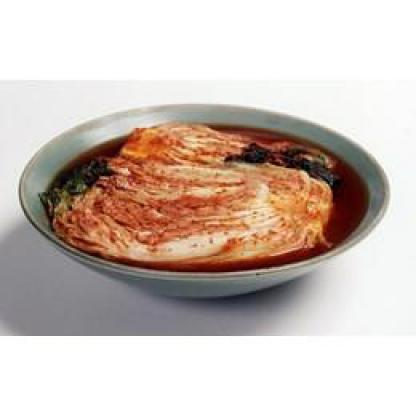kimchi: (56, 124, 344, 286)
